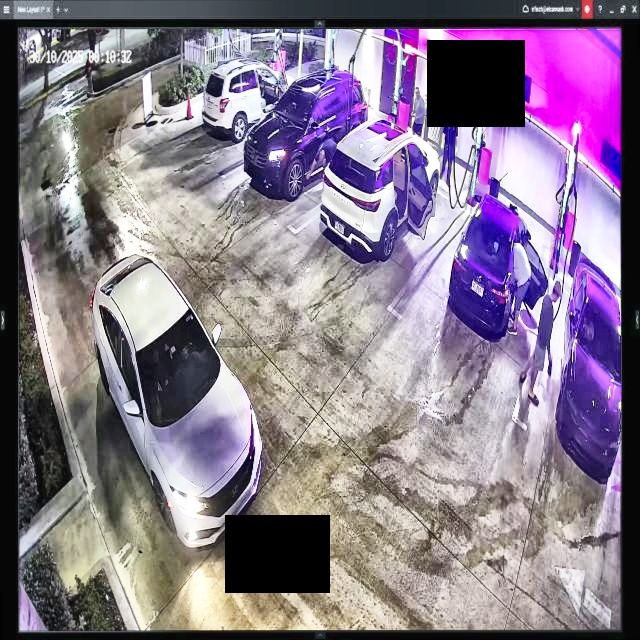Car: (91, 253, 265, 549), (319, 114, 440, 259), (246, 70, 367, 201), (450, 193, 547, 334)
